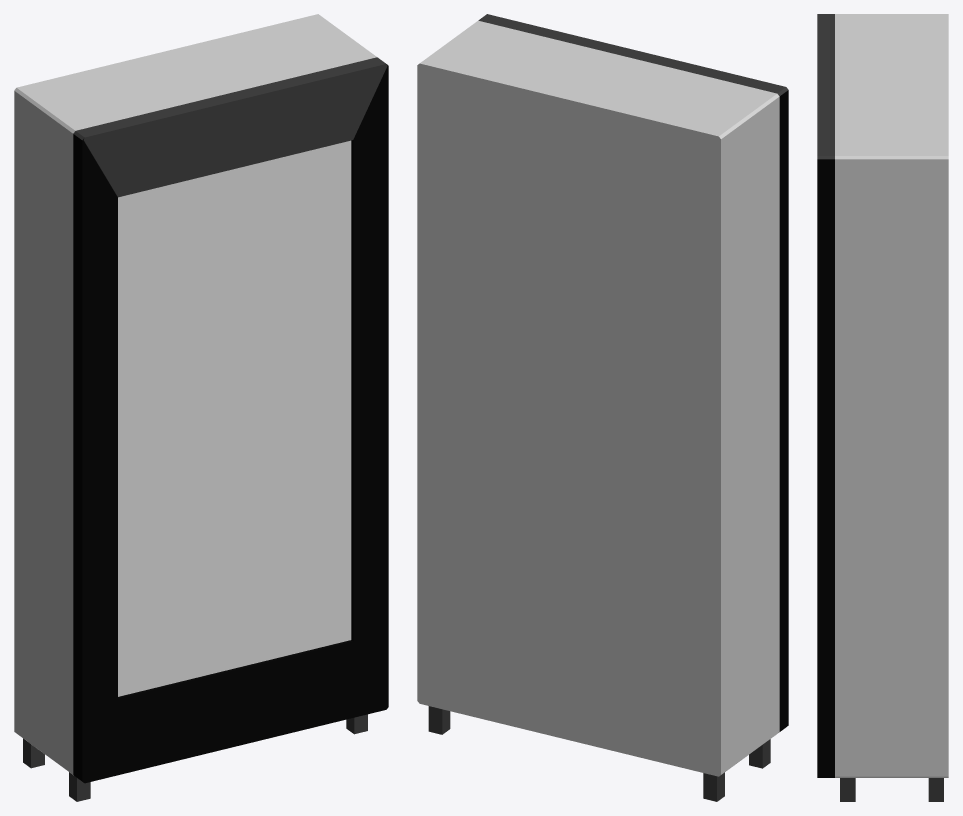
Rendered from C_Freezer_Drinks.fbx.
3 renders of one model, left to right at view 1: azimuth 30°, elevation 25°; view 2: azimuth 150°, elevation 25°; view 3: azimuth 270°, elevation 25°, orthographic. The views are drawn at different scales.
Parts seen in each view (by area): view 1: C_Freezer_Drinks; view 2: C_Freezer_Drinks; view 3: C_Freezer_Drinks.
Boxes of the visible parts, x1,y1,x2,y2 form: C_Freezer_Drinks: (14,14,388,801); C_Freezer_Drinks: (417,14,788,801); C_Freezer_Drinks: (817,14,948,801).
Bounding box in the file's own units: 715 × 276 × 1504.
